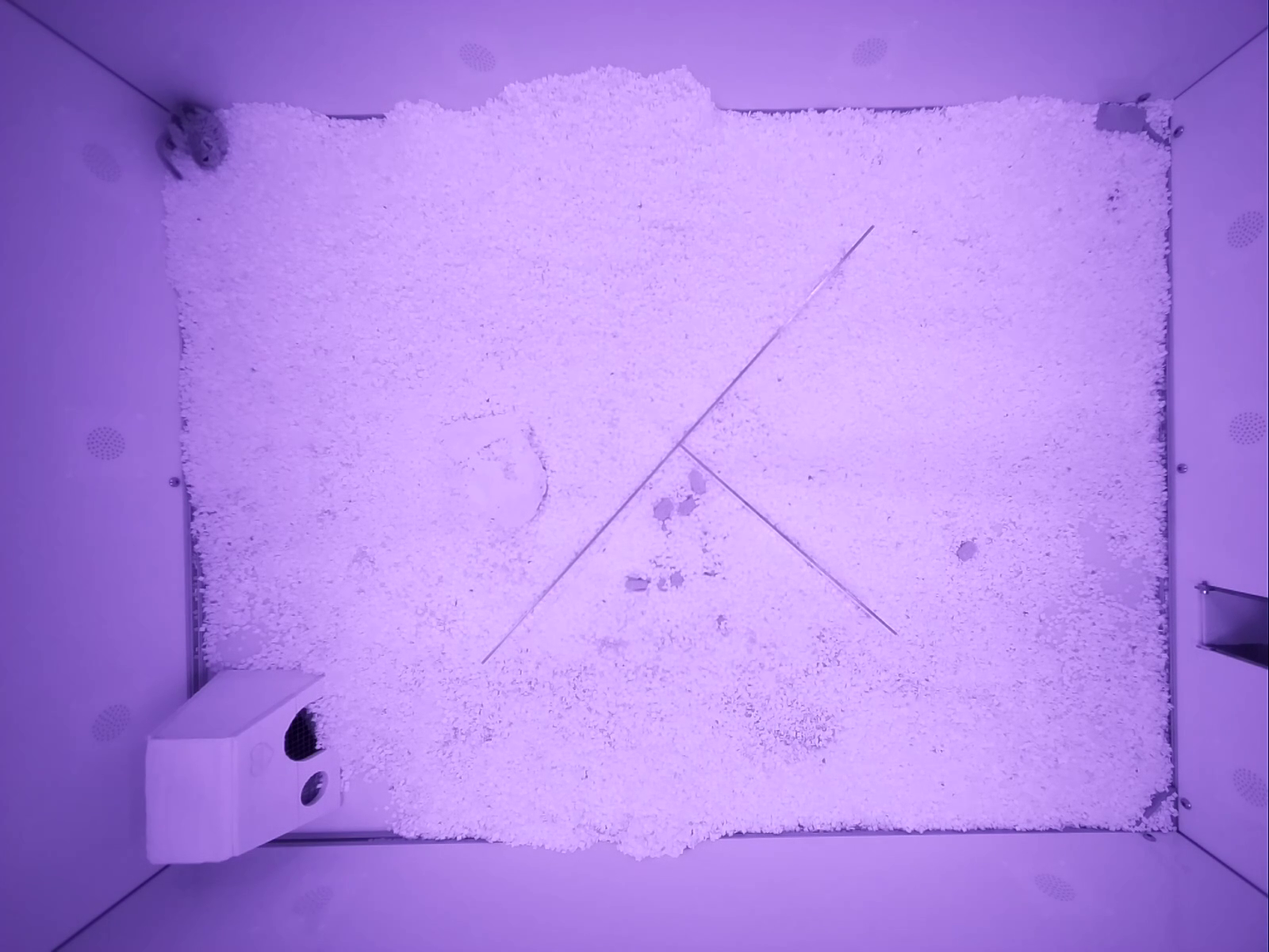adult_back: (157, 102, 228, 180)
